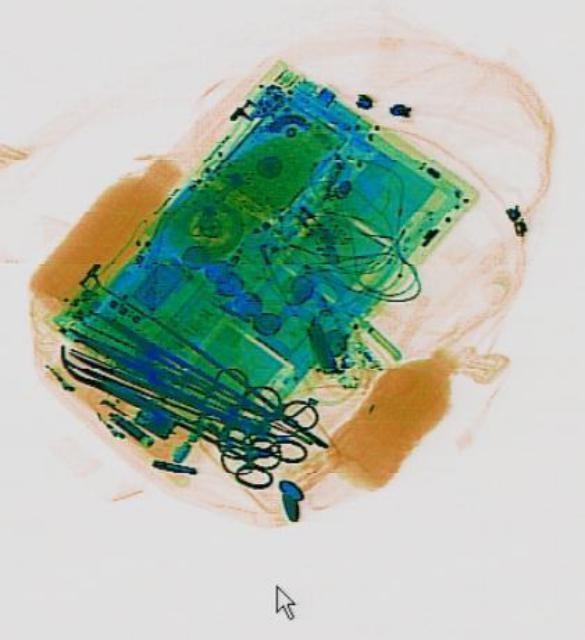Scissors: (171, 392, 308, 502)
